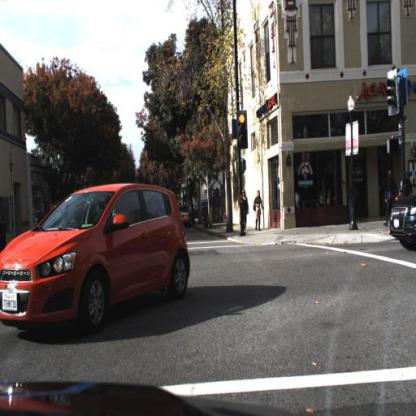car: (2, 183, 193, 334), (389, 170, 416, 257), (172, 203, 191, 228)
pedestrian: (386, 169, 399, 228), (399, 171, 415, 216), (254, 191, 266, 233), (240, 188, 250, 234), (241, 189, 250, 238), (256, 187, 264, 231)
trafficLight: (237, 113, 249, 153)
